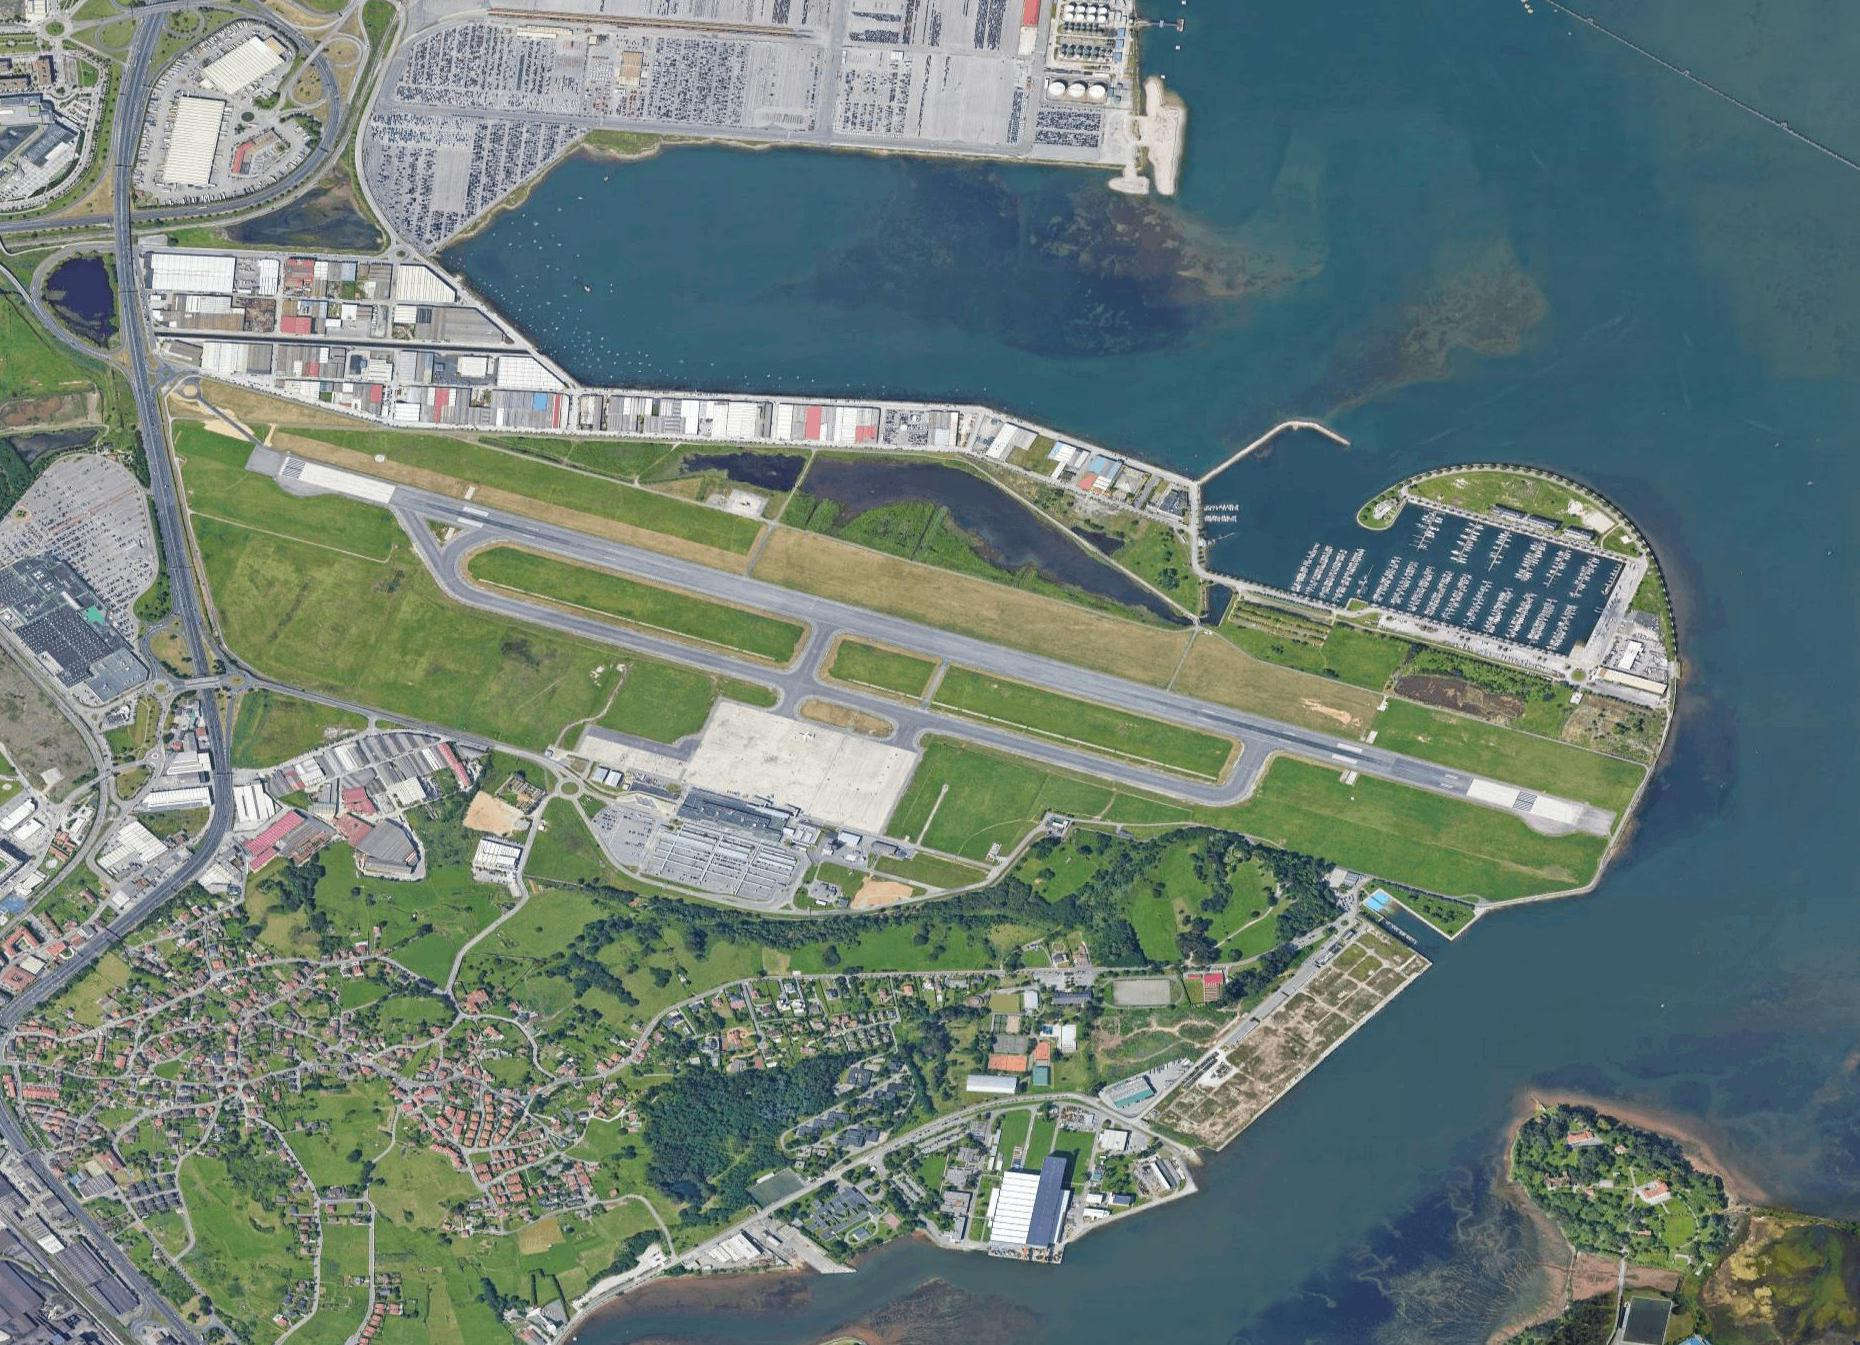airport: (231, 441, 1627, 945)
harbor: (1168, 392, 1671, 670)
motorway: (1, 822, 207, 1026), (103, 266, 205, 546), (153, 548, 235, 829), (69, 1193, 205, 1345), (95, 1, 160, 269), (1, 1085, 72, 1193)
